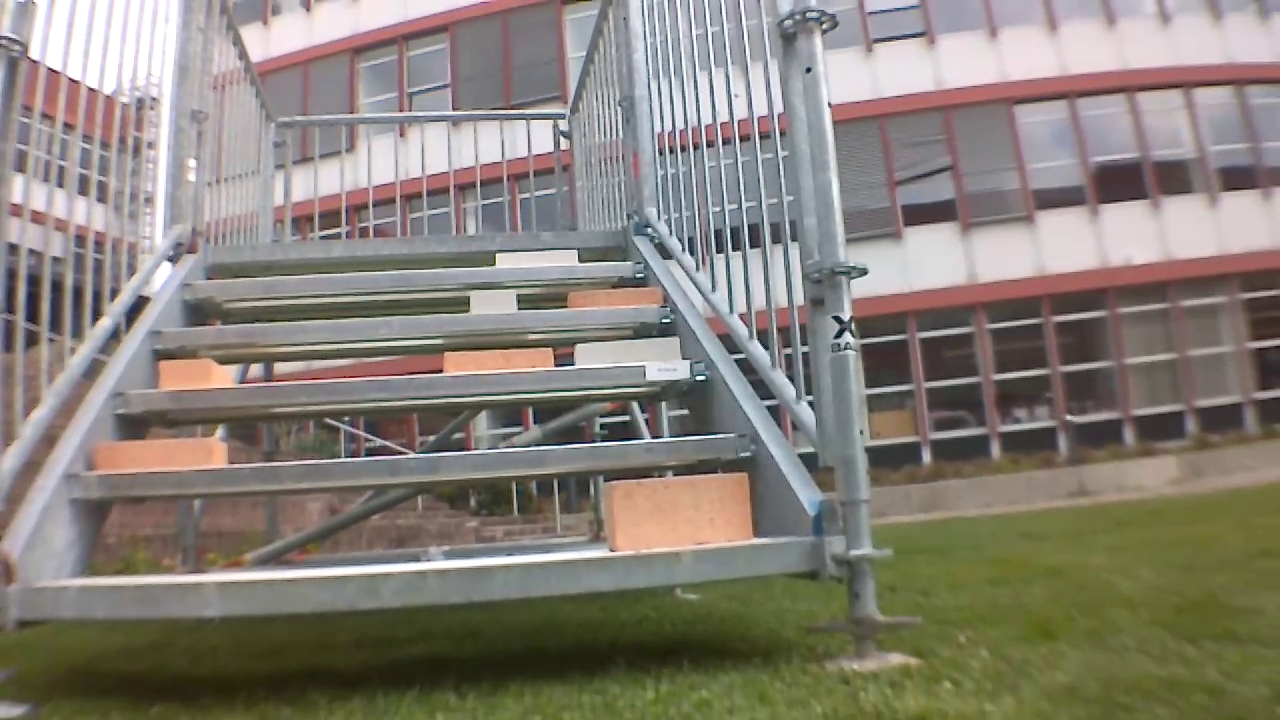brick: (605, 469, 754, 550), (93, 441, 234, 471), (436, 340, 549, 374), (150, 354, 232, 390), (573, 338, 682, 365), (567, 287, 664, 309), (491, 249, 578, 268), (464, 288, 519, 317)
edge: (17, 539, 824, 630), (80, 423, 763, 503), (112, 340, 721, 417), (167, 254, 652, 300), (205, 227, 626, 263), (144, 308, 682, 333)
stairs: (0, 0, 880, 696)
steps: (20, 226, 823, 623)
